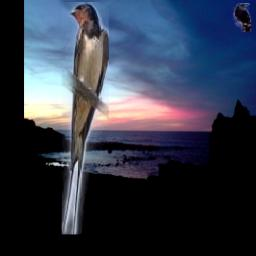Crow: (234, 3, 252, 32)
Swallow: (63, 3, 110, 236)
